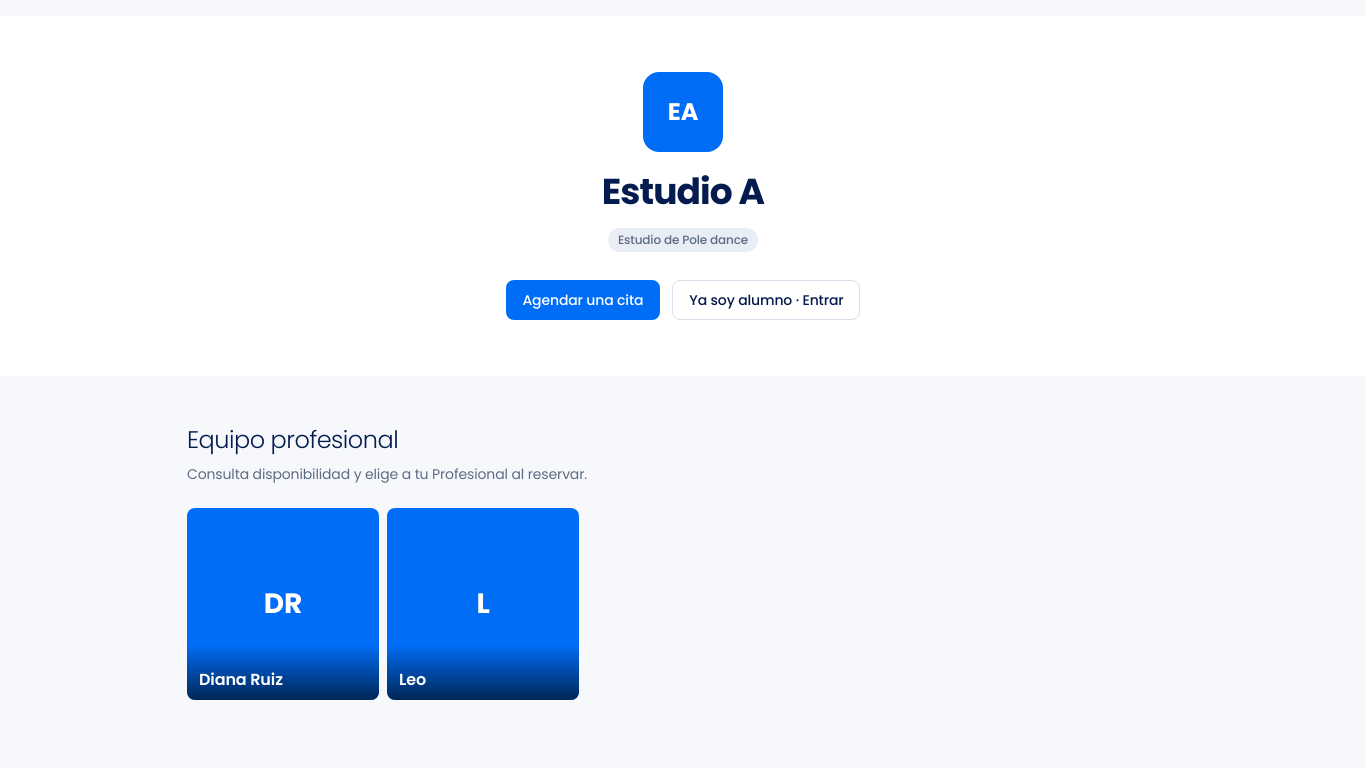
Scenario: página pública del estudio › el equipo y las reseñas (ADR 0167) › en mosaico; en citas la ficha ofrece agendar con esa persona
Expected: the list with class "ep-mosaico" is shown, [187, 508, 579, 700]
Click the button "L Leo": (483, 604) [387, 508, 579, 700]
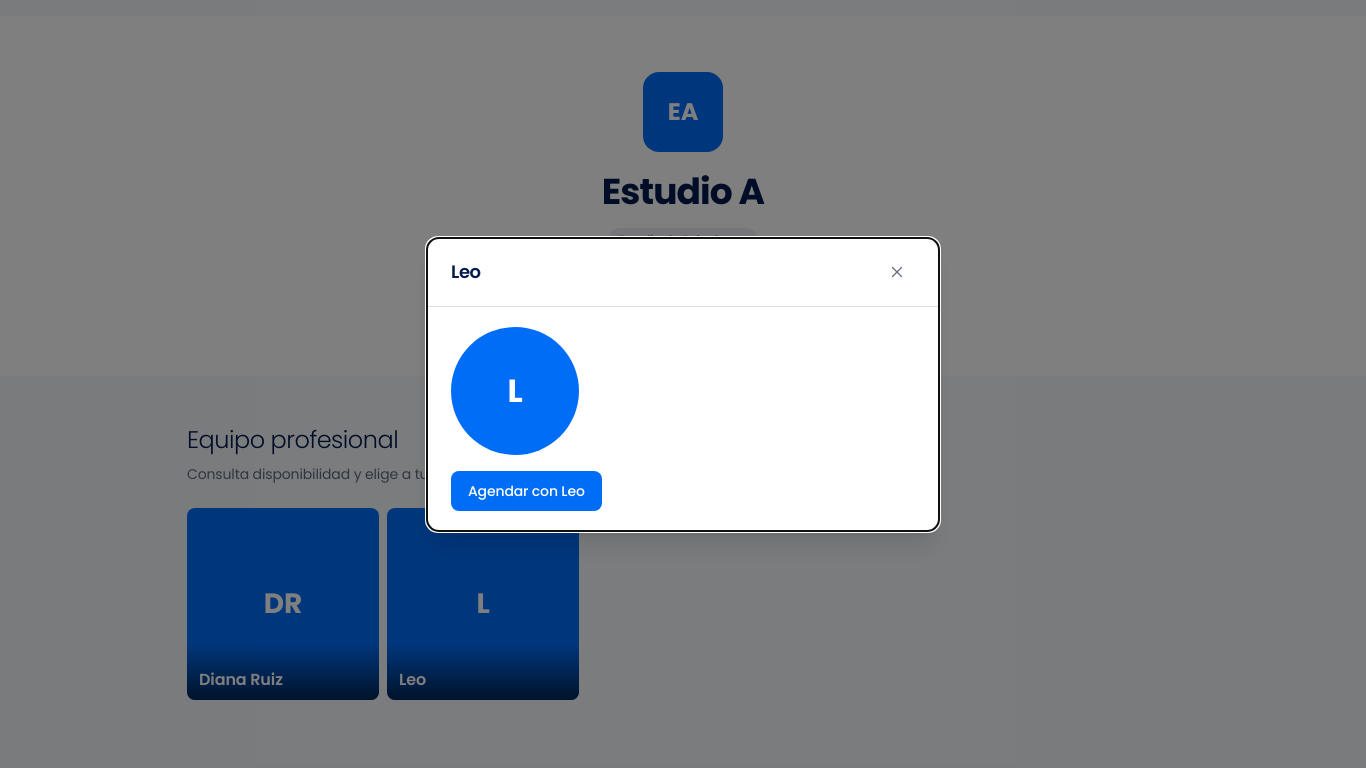
Result: the button "Agendar con Leo" is shown at [451, 470, 602, 510]
